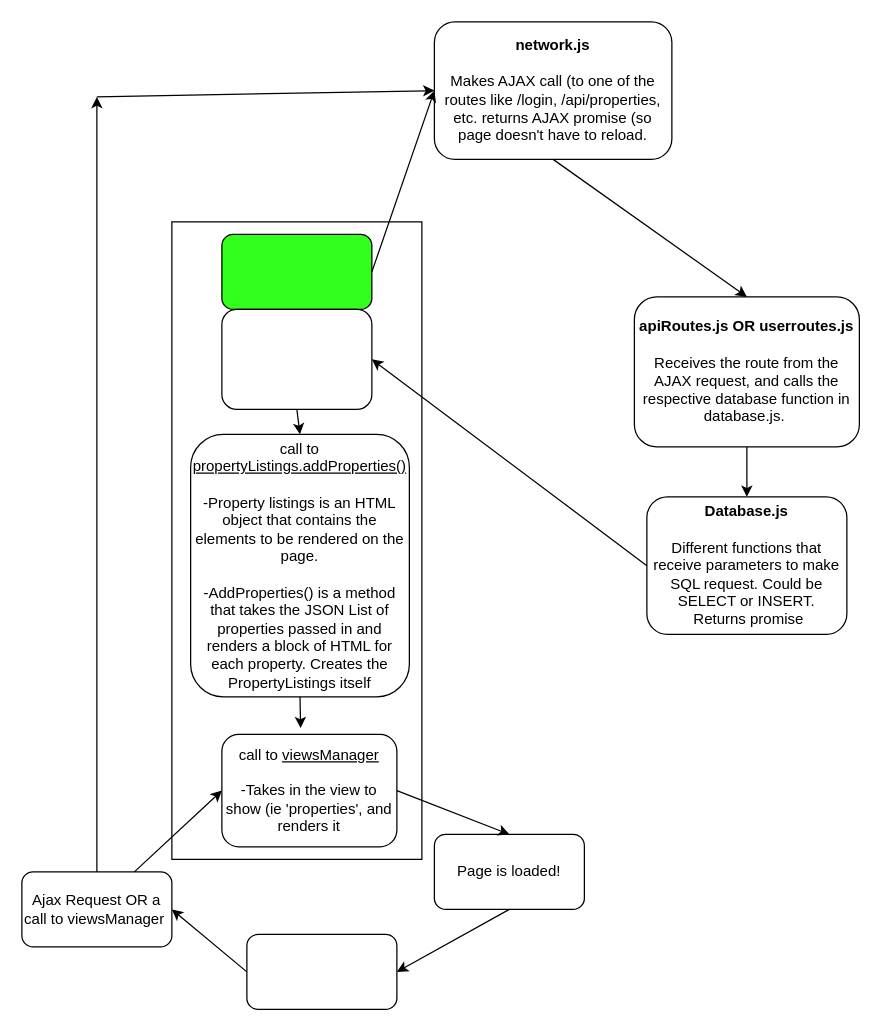
The diagram is 881 pixels wide and 1031 high, and some of its shapes have lost their labels. Each missing label, with the centre of its shape:
"Click button on Header / Page" belongs at point (321, 971).
"index.js On Page Load Call to getAllListings()" belongs at point (296, 271).
"Once promise is resolved, contains JSON format of all the SQL results" belongs at point (296, 358).
